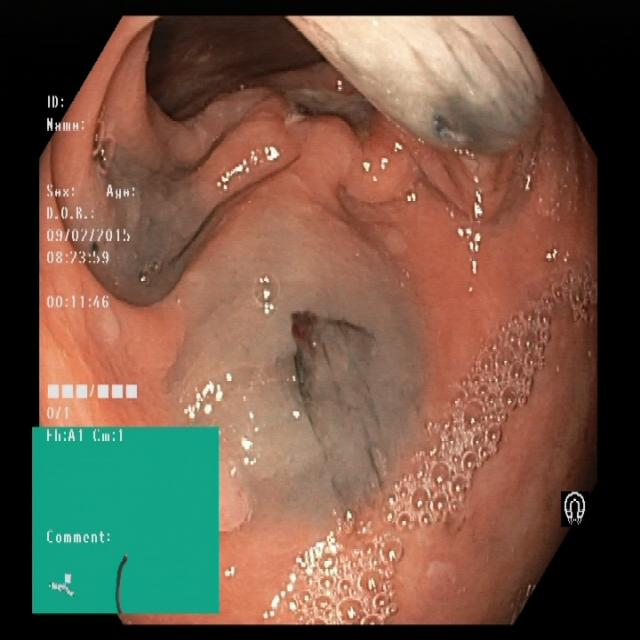location: (33, 428, 221, 616)
